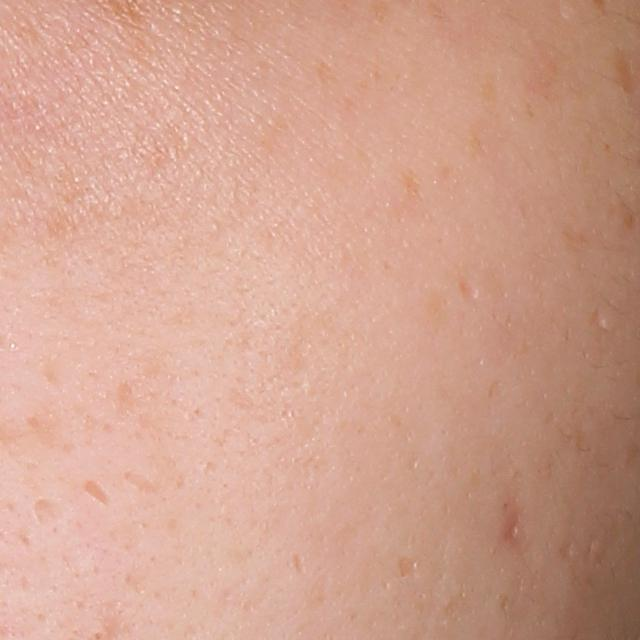atrophic_scar: (117, 468, 161, 495), (82, 480, 116, 510), (34, 499, 63, 531), (586, 306, 610, 334), (397, 554, 418, 583), (458, 281, 480, 300), (289, 550, 307, 573)
melasma: (41, 163, 93, 206), (615, 48, 636, 96), (399, 166, 425, 202), (318, 58, 337, 90)
